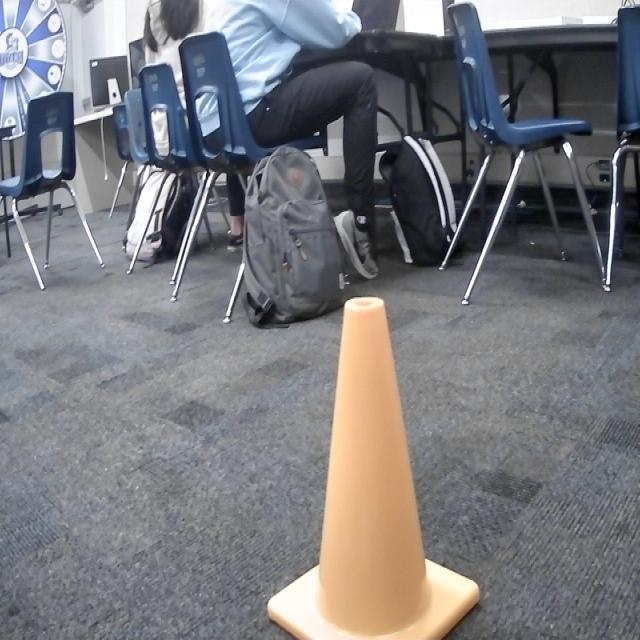cone: (264, 294, 480, 640)
